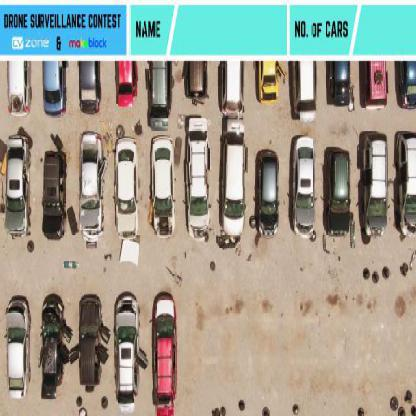car: (186, 117, 212, 242), (3, 134, 32, 236), (221, 120, 245, 241), (151, 296, 176, 412), (115, 293, 139, 411), (290, 137, 317, 239), (78, 133, 103, 243), (363, 135, 389, 238), (5, 295, 32, 393), (150, 138, 176, 238), (325, 150, 353, 240), (40, 294, 62, 398), (115, 140, 137, 240), (78, 293, 101, 388), (395, 132, 415, 239), (41, 151, 64, 240), (256, 152, 280, 236), (149, 61, 171, 129), (294, 60, 316, 119), (78, 61, 102, 115), (7, 61, 31, 114), (220, 61, 244, 113), (361, 62, 388, 107), (328, 61, 353, 109), (44, 62, 66, 116), (184, 61, 209, 100), (115, 60, 137, 104), (259, 60, 280, 104), (397, 62, 415, 111)
